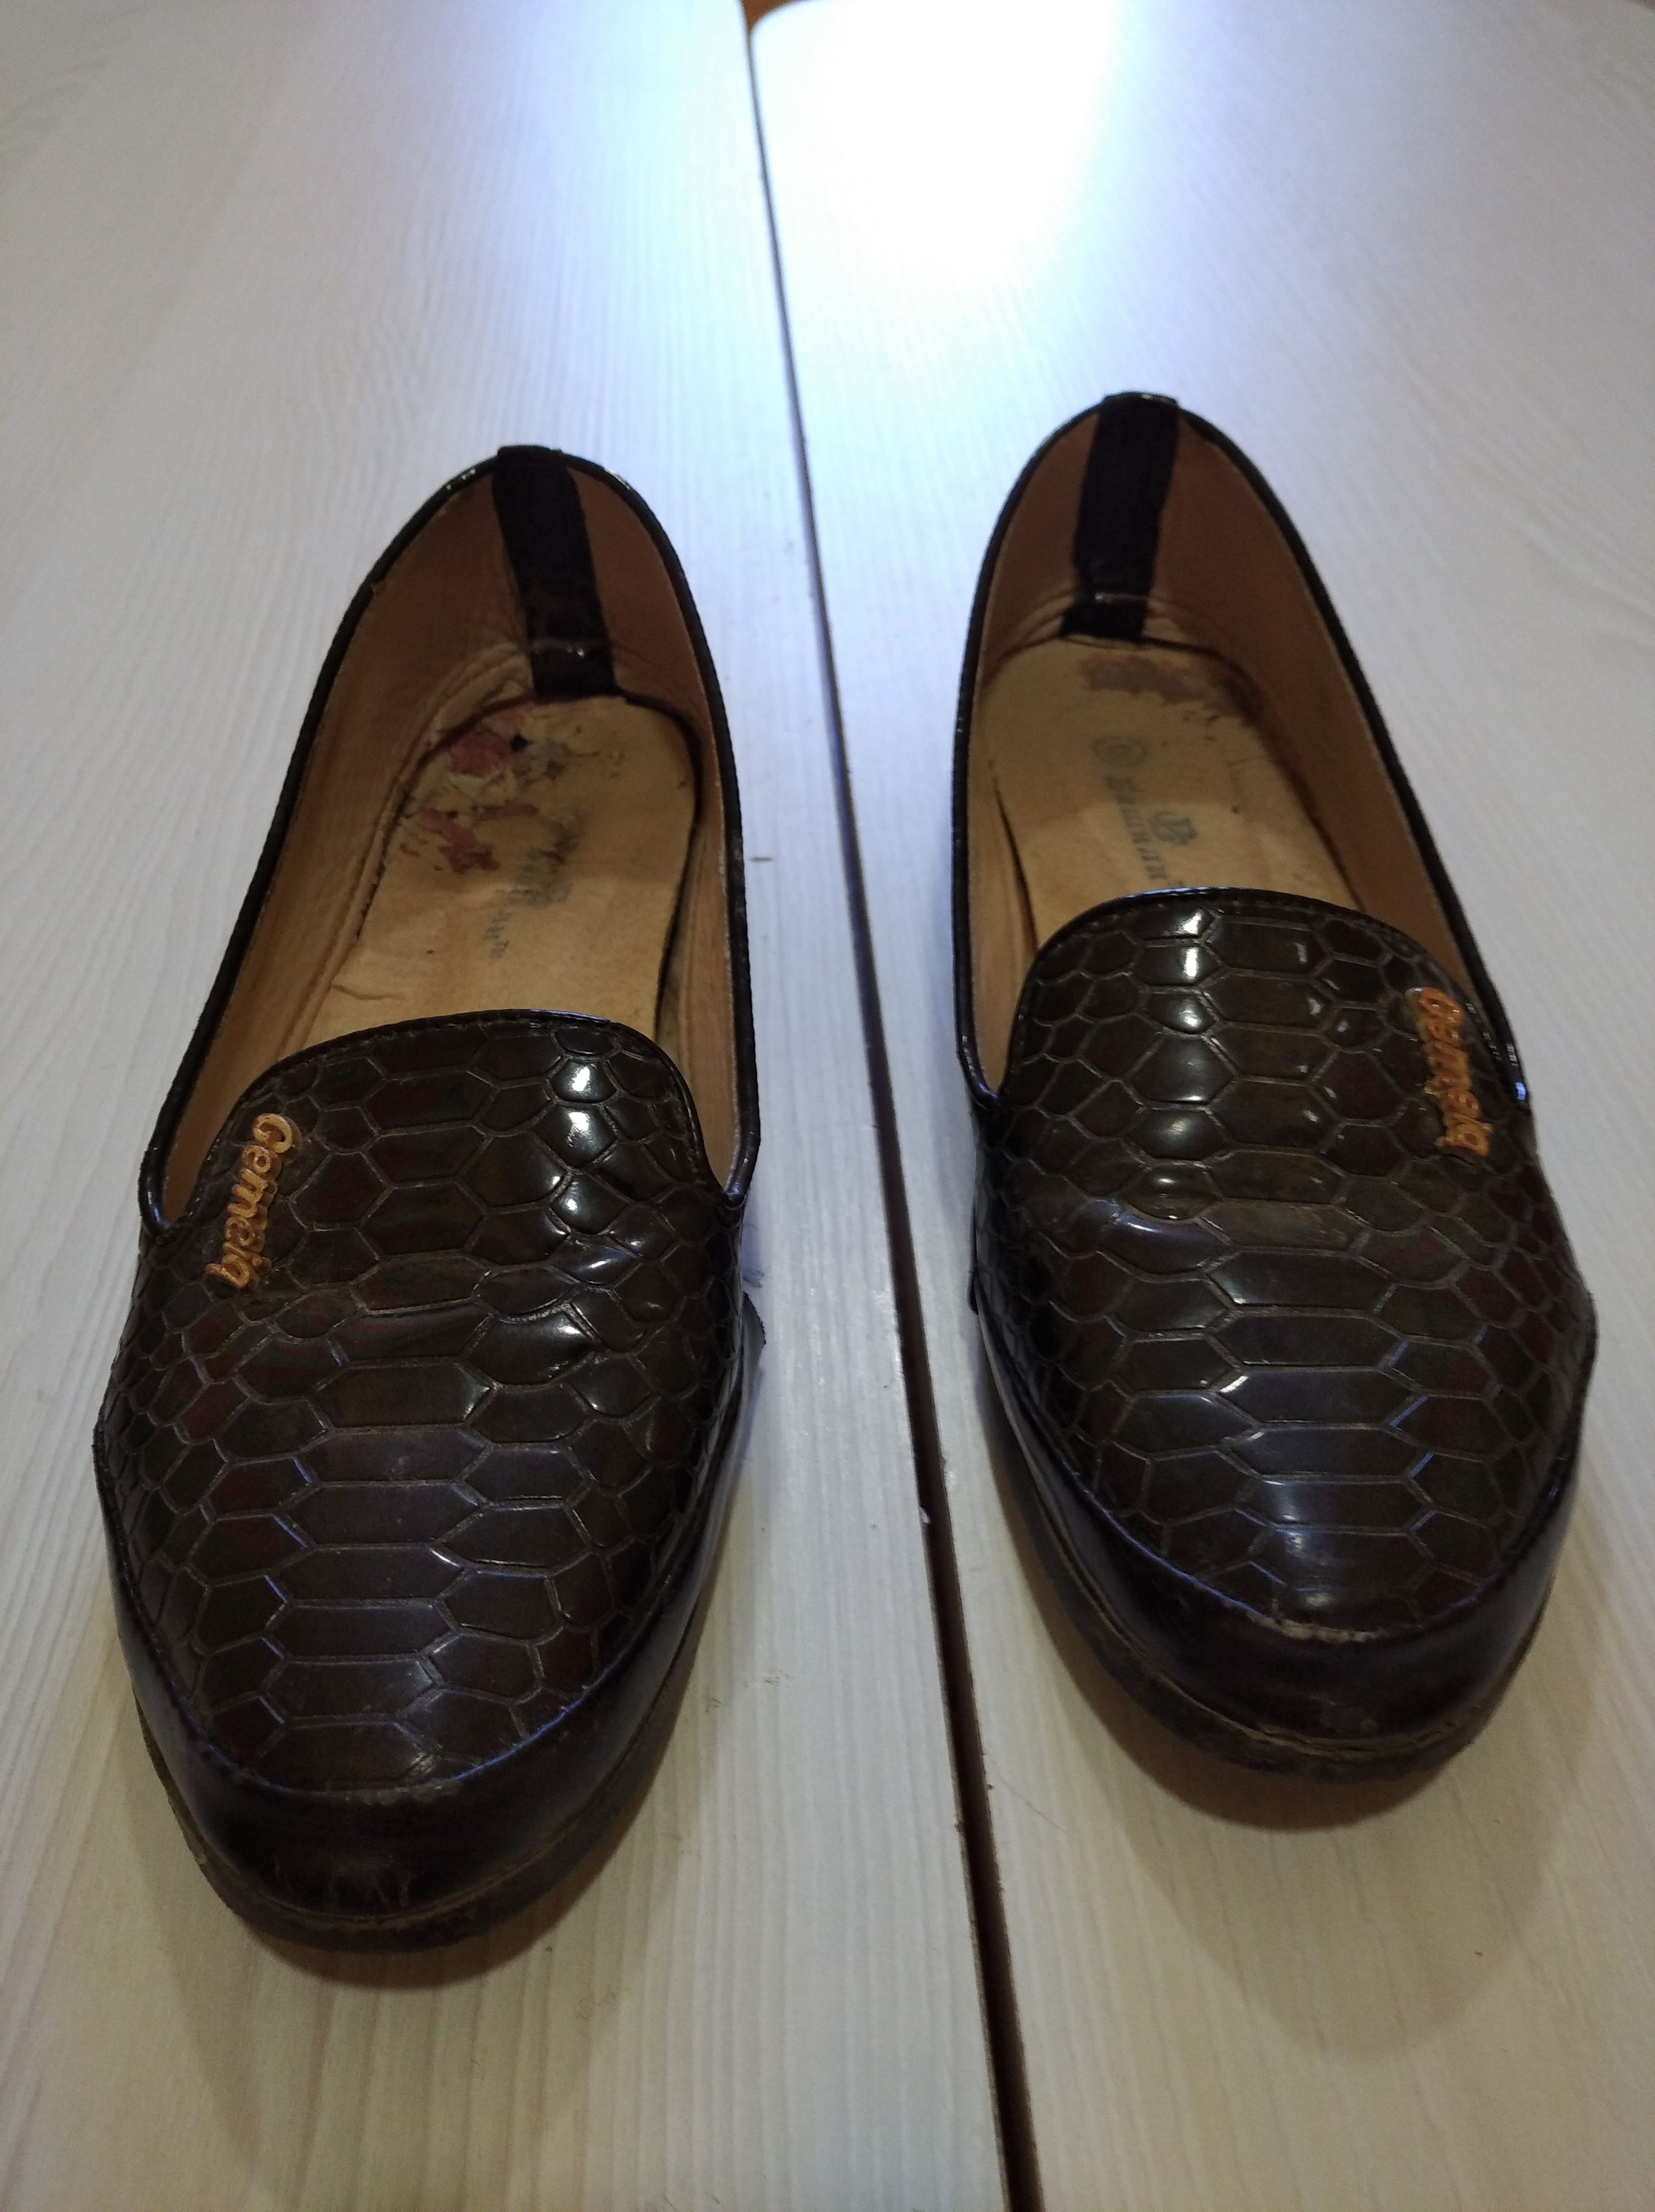clothes: (68, 419, 798, 2005), (920, 381, 1605, 1765)
